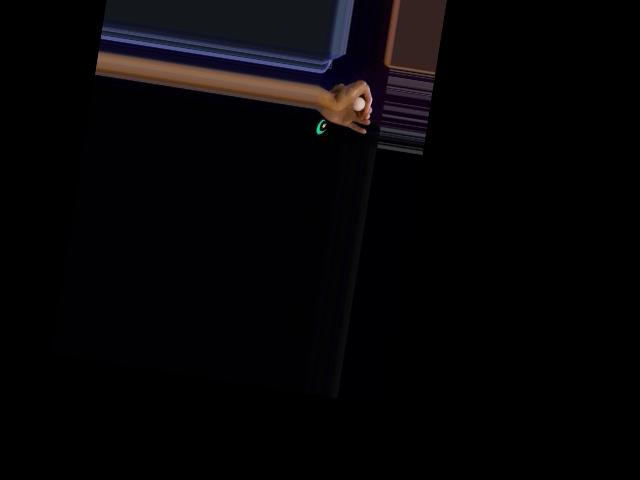egg: (353, 95, 366, 112)
